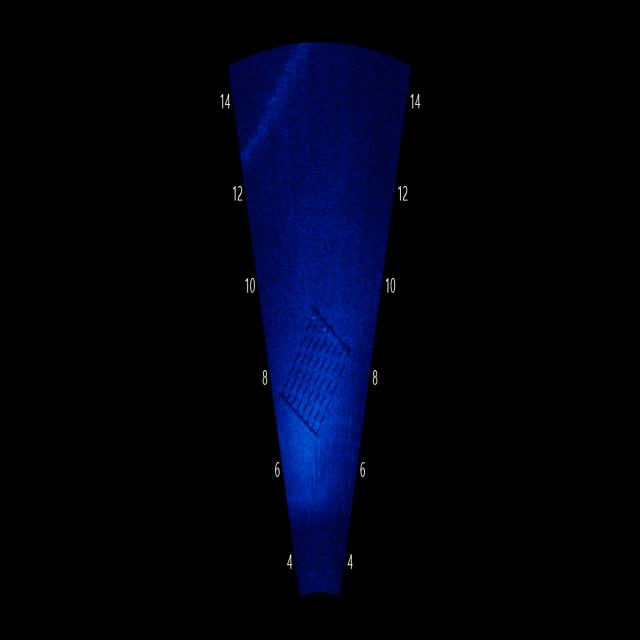square: (274, 296, 354, 442)
